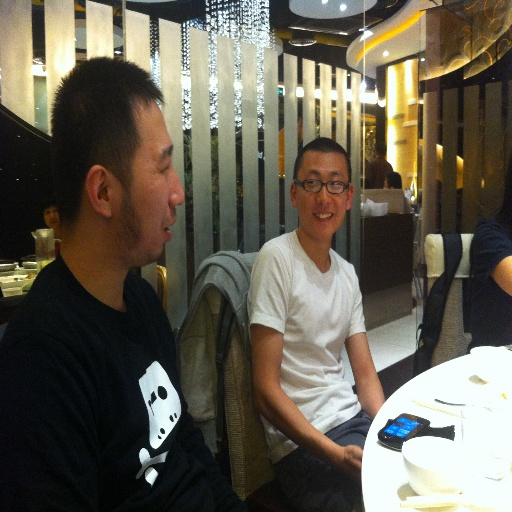hand: (323, 440, 368, 491)
